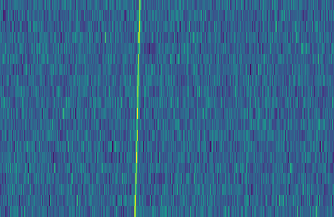signal: (130, 0, 144, 217)
